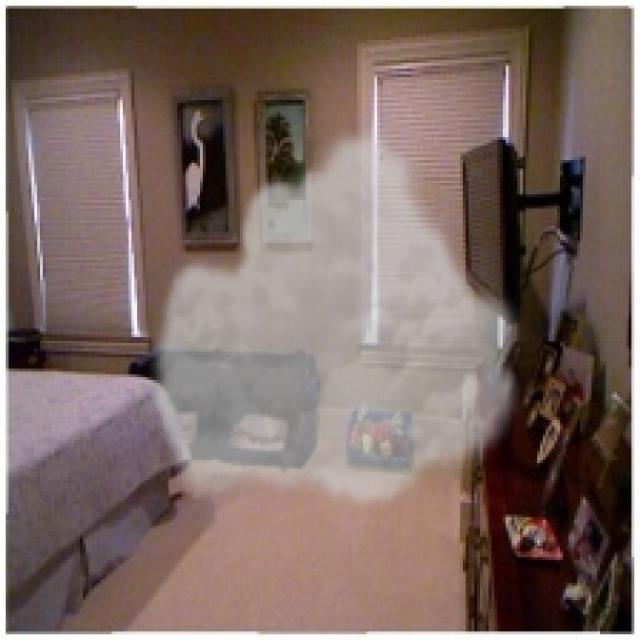smoke: (143, 123, 531, 511)
